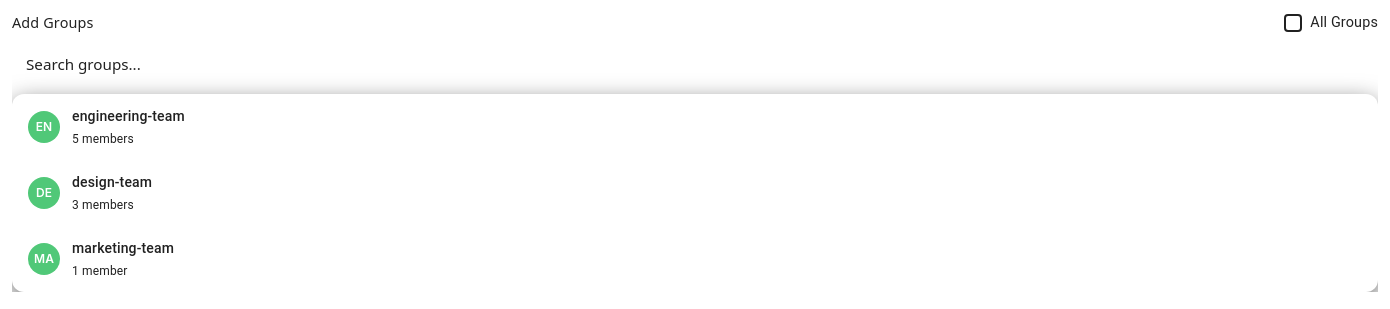
Test: GroupSelectionPanel › Search Functionality › should be case insensitive
This screenshot has width=1390, height=309.
In the field with placeholder "Search groups...": (695, 64) [12,42,1378,86], type "DESIGN"
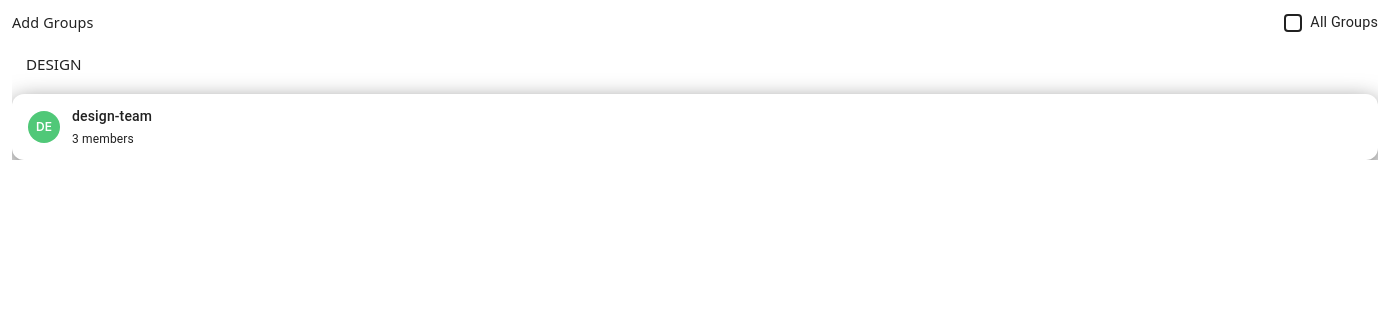
Expected: the button "engineering-team" is gone
